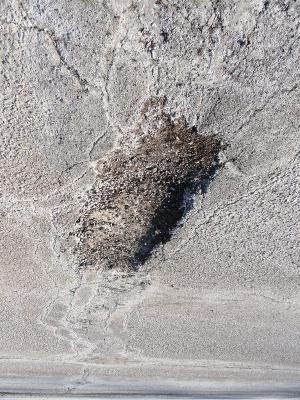pothole: (63, 101, 228, 279)
